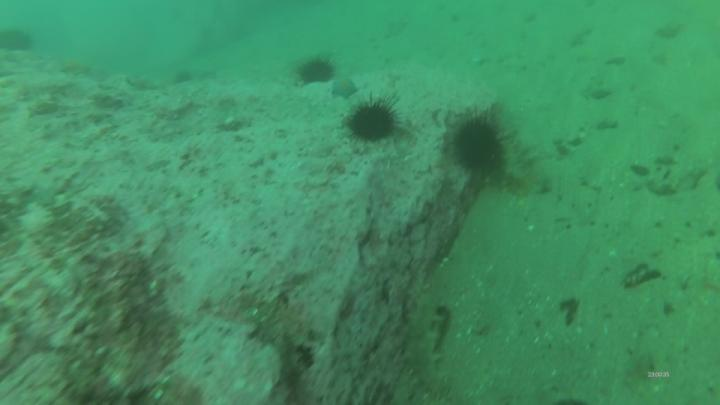echinus: (455, 122, 504, 170), (350, 104, 397, 142), (302, 59, 333, 83)
holothurian: (409, 294, 448, 401), (504, 131, 549, 191)
starfish: (334, 75, 358, 96)
